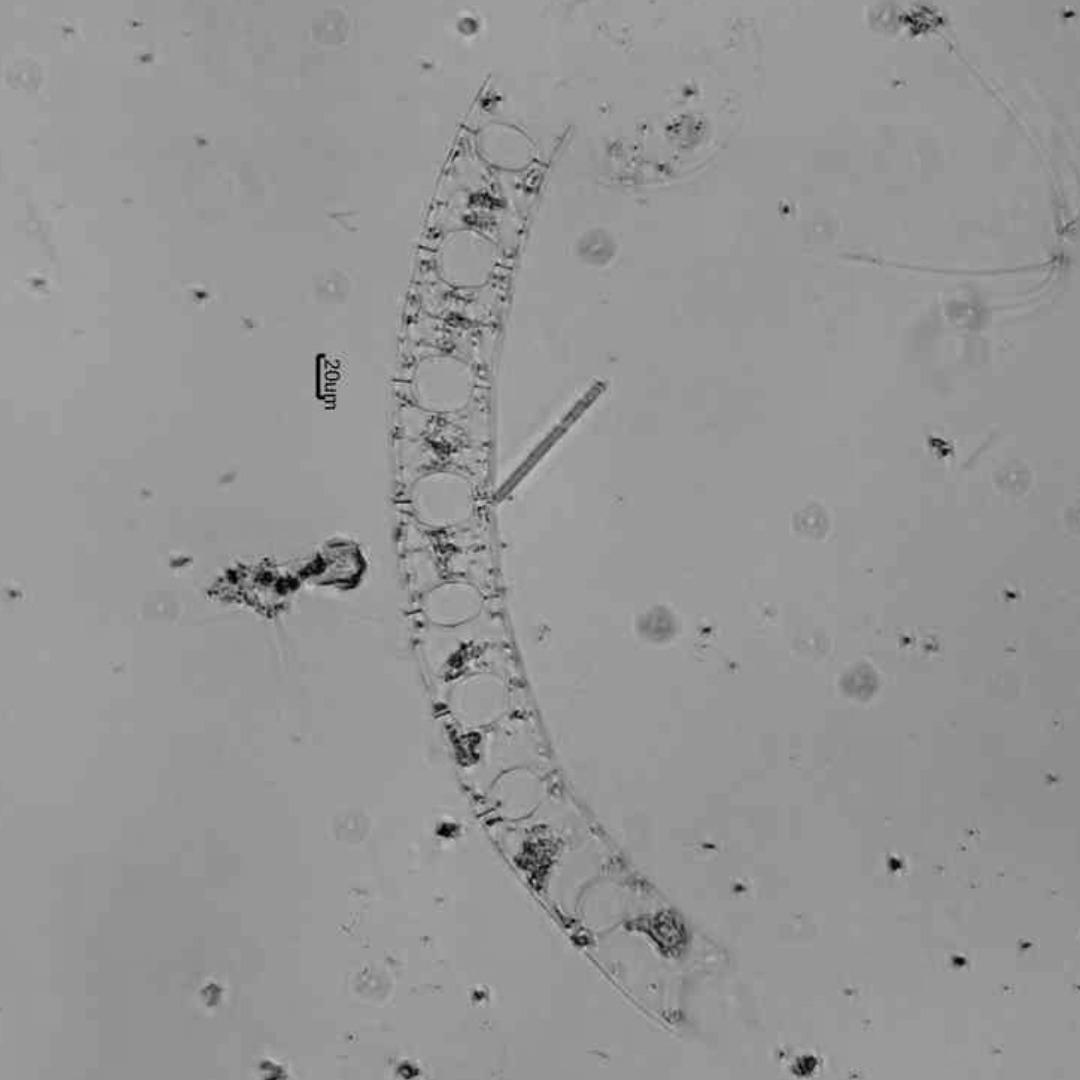eucampia_zodiacus: (388, 81, 741, 1025)
